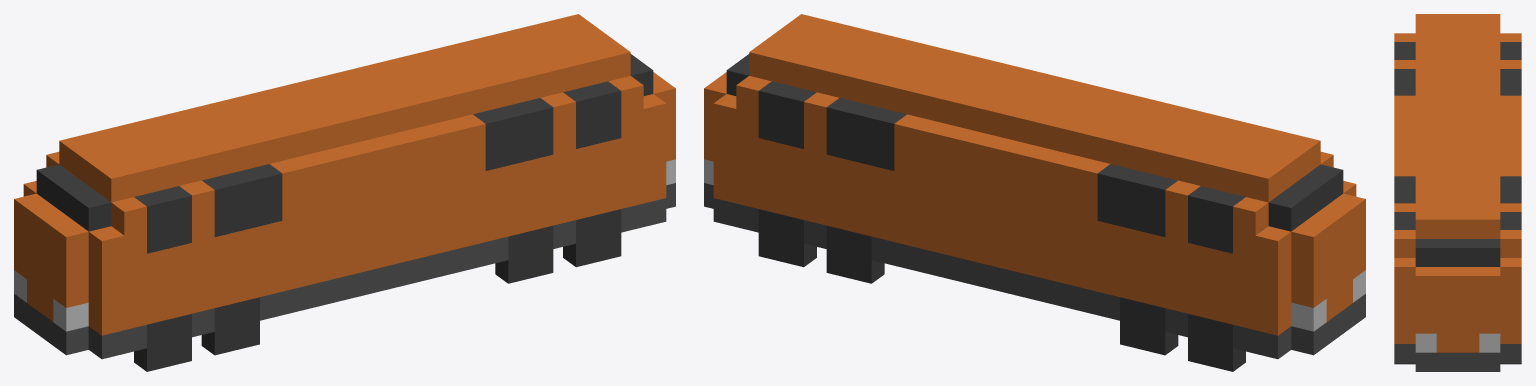
File: train-v3-orange.gltf
The picture shows the model from 3 angles, left to right: view 1: azimuth 30°, elevation 25°; view 2: azimuth 150°, elevation 25°; view 3: azimuth 270°, elevation 25°; orthographic projection. The views are drawn at different scales.
Parts seen in each view (by area): view 1: model, wheels; view 2: model, wheels; view 3: model.
Part boxes in pixels (x1,y1,x2,y2): model: (14, 14, 675, 359); wheels: (134, 209, 621, 371); model: (704, 14, 1365, 359); wheels: (758, 209, 1245, 371); model: (1394, 14, 1521, 371).
Size of the model in its own units: 2.7 by 0.8 by 0.6.
2 materials, 2 textured.
